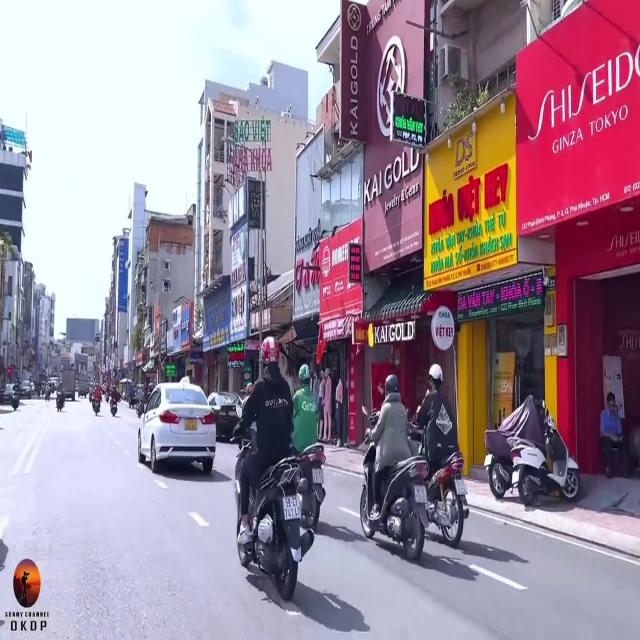bien_trang: (282, 492, 302, 524)
